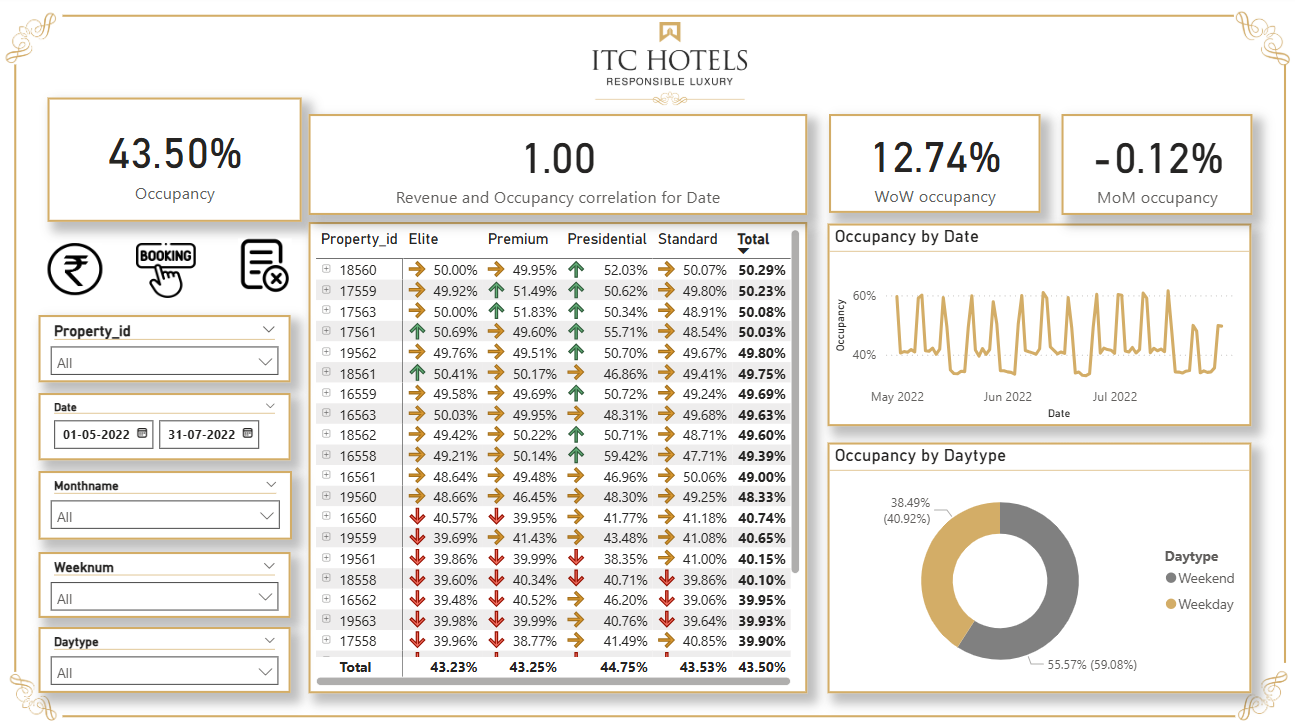

What the dashboard file says about the page in this screenshot:
{"tool":"powerbi","page":{"name":"Occupancy","canvas":[1280,720],"ordinal":1},"visuals":[{"type":"card","fields":{"Values":["table.Occupancy"]},"box":[56.3,101,246.8,120.9],"z":0},{"type":"pivotTable","fields":{"Rows":["Hotels.Property_id","Hotels.City"],"Values":["table.Occupancy"],"Columns":["Rooms.Room_class"]},"box":[309.8,222,483.7,457.2],"z":1000},{"type":"card","fields":{"Values":["Bookings.Occupancy MoM%"]},"box":[889.5,238.5,217,94.4],"z":2000},{"type":"card","fields":{"Values":["table.O wow%growth"]},"box":[815,116,205.4,96.1],"z":3000},{"type":"card","fields":{"Values":["Bookings.Revenue and Occupancy correlation for Date"]},"box":[309.8,116,483.7,97.7],"z":4000},{"type":"shape","box":[71.3,10.2,1136.8,21.8],"z":5000},{"type":"shape","box":[13.1,68.4,24.7,589.5],"z":6000},{"type":"shape","box":[71.3,698.7,1138.2,4.4],"z":7000},{"type":"shape","box":[1254.7,68.4,5.8,580.8],"z":8000},{"type":"image","box":[558.2,21.5,203.7,91.1],"z":9000},{"type":"image","box":[0,0,75.7,80.1],"z":10000},{"type":"image","box":[1.5,649.2,78.6,71.3],"z":11000},{"type":"image","box":[1197.9,0,81.5,80.1],"z":12000},{"type":"image","box":[1197.9,646.3,81.5,74.2],"z":13000},{"type":"slicer","fields":{"Values":["Hotels.property_id"]},"box":[48,311.5,244.5,65.5],"z":14000},{"type":"slicer","fields":{"Values":["Calendar.Date"]},"box":[48,387.2,244.5,65.5],"z":15000},{"type":"slicer","fields":{"Values":["Calendar.Monthname"]},"box":[48,462.9,246,67],"z":16000},{"type":"slicer","fields":{"Values":["Calendar.weeknum"]},"box":[48,541.5,244.5,64],"z":17000},{"type":"slicer","fields":{"Values":["Calendar.Daytype"]},"box":[48,614.2,244.5,64],"z":18000},{"type":"actionButton","box":[56.7,241,53.6,50.4],"z":19000},{"type":"actionButton","box":[143.3,241,58.3,53.6],"z":20000},{"type":"actionButton","box":[241,237.8,52,53.6],"z":21000},{"type":"lineChart","fields":{"Category":["Calendar.Date"],"Y":["table.Occupancy"]},"box":[814.2,222.8,411.1,196.5],"z":22000},{"type":"donutChart","fields":{"Category":["Calendar.Daytype"],"Y":["table.Occupancy"]},"box":[814.2,435.4,411.1,243],"z":23000},{"type":"card","fields":{"Values":["table.MoM occupancy"]},"box":[1040.3,116,185.5,97.7],"z":24000}]}

Visuals, with their boxes in screenshot pixels (x1, y1, x2, y2), scaled from the page's 1280x720 canvas onto the 1295x727 screenshot:
card - table.Occupancy: [x1=57, y1=102, x2=307, y2=224]
pivotTable - Hotels.Property_id x Hotels.City: [x1=313, y1=224, x2=803, y2=686]
card - Bookings.Occupancy MoM%: [x1=900, y1=241, x2=1119, y2=336]
card - table.O wow%growth: [x1=825, y1=117, x2=1032, y2=214]
card - Bookings.Revenue and Occupancy correlation for Date: [x1=313, y1=117, x2=803, y2=216]
shape: [x1=72, y1=10, x2=1222, y2=32]
shape: [x1=13, y1=69, x2=38, y2=664]
shape: [x1=72, y1=705, x2=1224, y2=710]
shape: [x1=1269, y1=69, x2=1275, y2=656]
image: [x1=565, y1=22, x2=771, y2=114]
image: [x1=0, y1=0, x2=77, y2=81]
image: [x1=2, y1=656, x2=81, y2=726]
image: [x1=1212, y1=0, x2=1294, y2=81]
image: [x1=1212, y1=653, x2=1294, y2=726]
slicer - Hotels.property_id: [x1=49, y1=315, x2=296, y2=381]
slicer - Calendar.Date: [x1=49, y1=391, x2=296, y2=457]
slicer - Calendar.Monthname: [x1=49, y1=467, x2=297, y2=535]
slicer - Calendar.weeknum: [x1=49, y1=547, x2=296, y2=611]
slicer - Calendar.Daytype: [x1=49, y1=620, x2=296, y2=685]
actionButton: [x1=57, y1=243, x2=112, y2=294]
actionButton: [x1=145, y1=243, x2=204, y2=297]
actionButton: [x1=244, y1=240, x2=296, y2=294]
lineChart - Calendar.Date x table.Occupancy: [x1=824, y1=225, x2=1240, y2=423]
donutChart - Calendar.Daytype x table.Occupancy: [x1=824, y1=440, x2=1240, y2=685]
card - table.MoM occupancy: [x1=1052, y1=117, x2=1240, y2=216]
